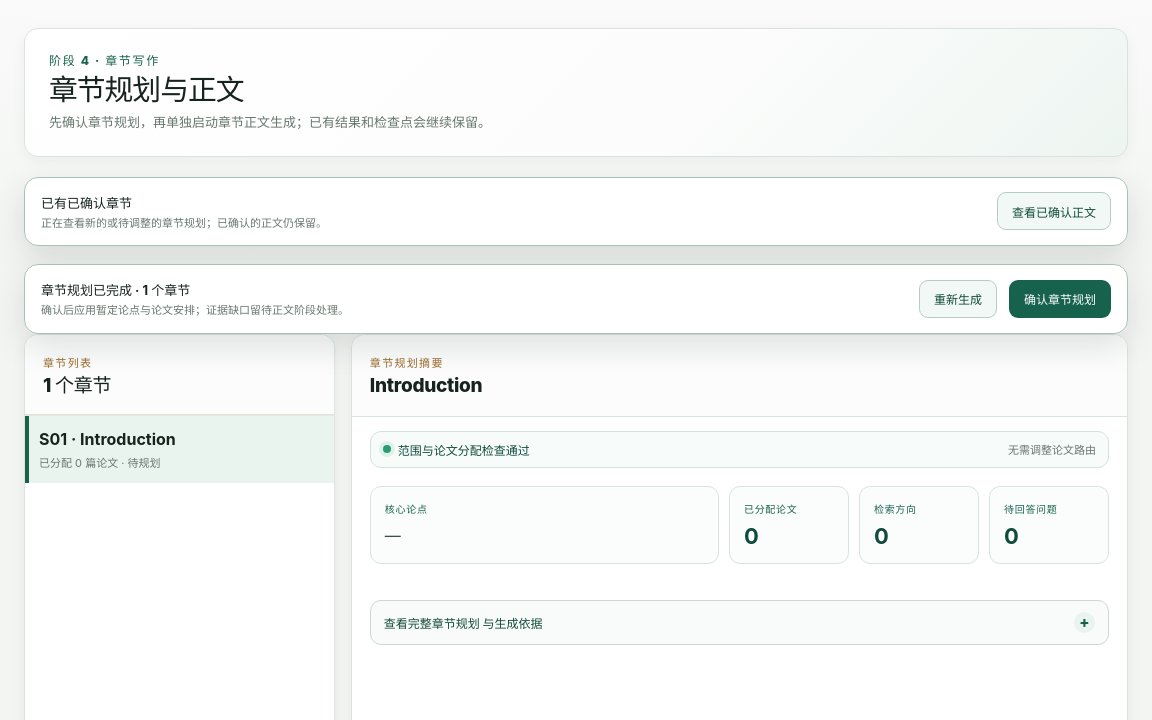
Test: stage 04 chapter-planning handoff › keeps approved drafts accessible while a new plan candidate awaits confirmation
Expected: the button "确认章节规划" is enabled, x1=1009 y1=280 x2=1111 y2=318
Click the button "查看已确认正文" at (1054, 211), box x1=997 y1=192 x2=1111 y2=230
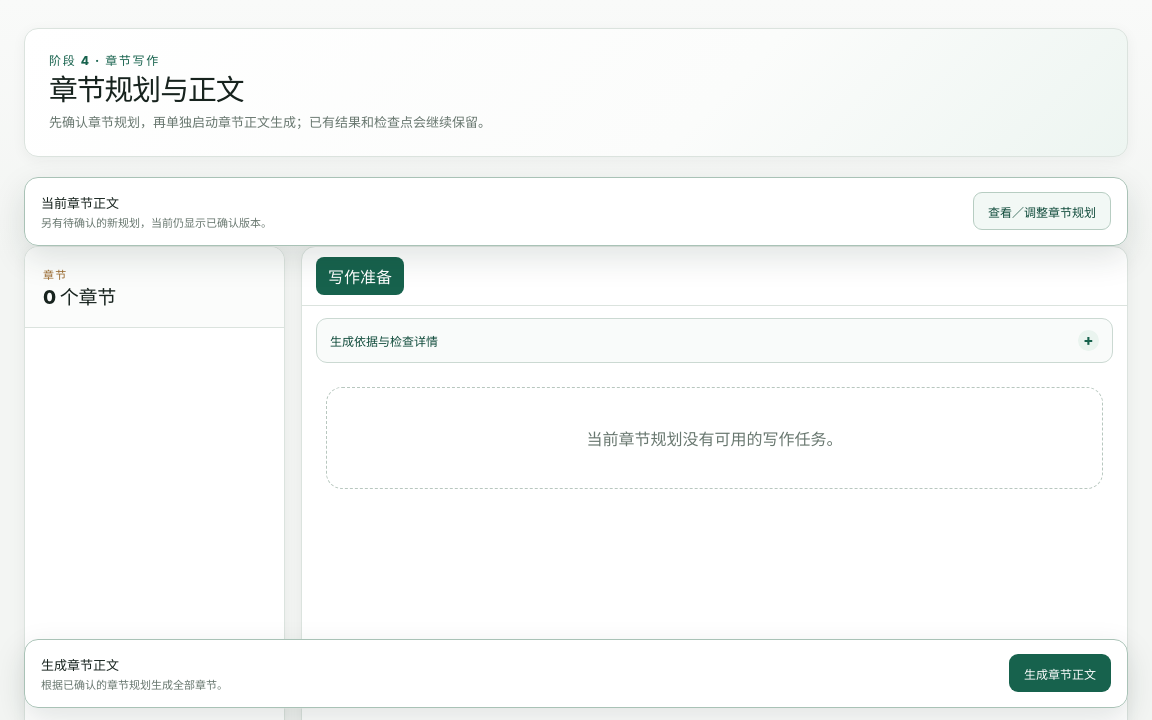
Result: the button "生成章节正文" is enabled at x1=1009 y1=654 x2=1111 y2=692
